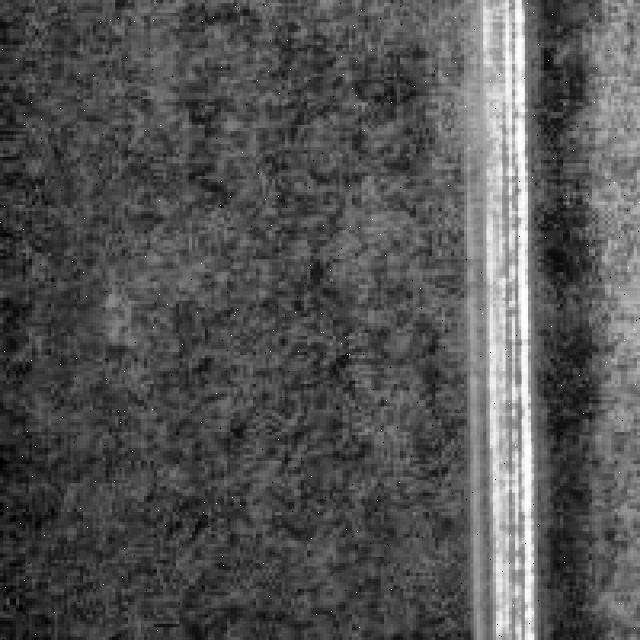Inclusion: (467, 0, 554, 634)
